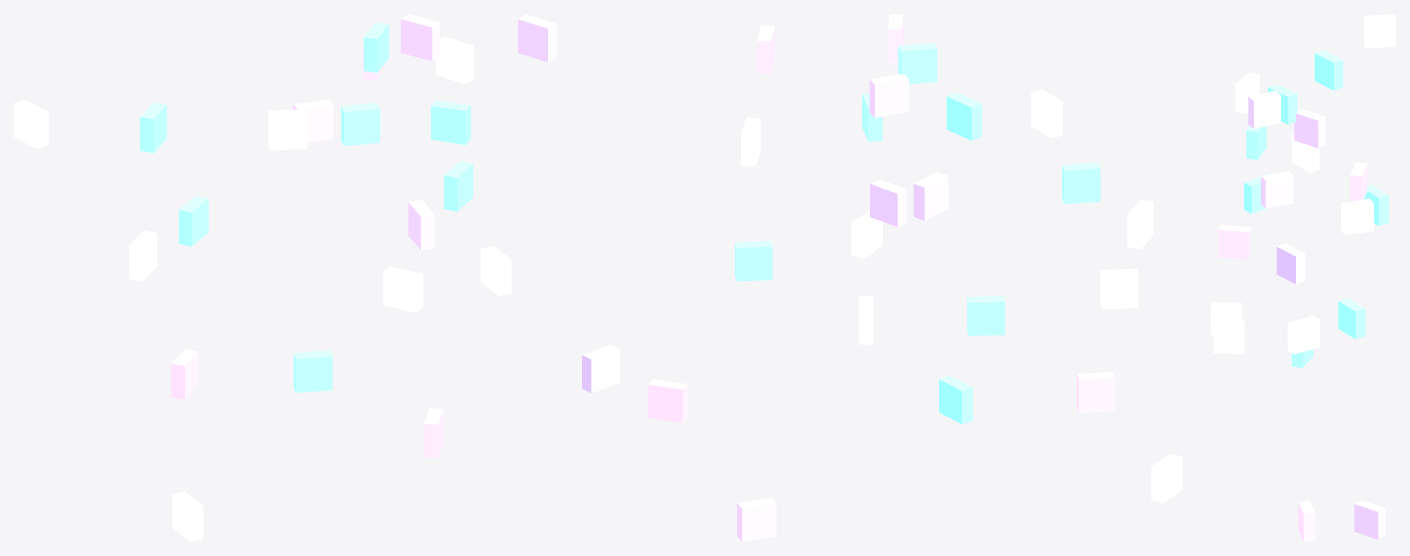
File: pixel.glb
3 renders of one model, left to right at view 1: azimuth 30°, elevation 25°; view 2: azimuth 150°, elevation 25°; view 3: azimuth 270°, elevation 25°, orthographic. The views are drawn at different scales.
Visible parts, largest first — view 1: Pixel Pop dimensional effect.001; view 2: Pixel Pop dimensional effect.001; view 3: Pixel Pop dimensional effect.001.
Boxes of the visible parts, bbox=[...] form: Pixel Pop dimensional effect.001: bbox=[14, 14, 619, 541]; Pixel Pop dimensional effect.001: bbox=[648, 14, 1182, 541]; Pixel Pop dimensional effect.001: bbox=[1211, 14, 1395, 541].
Size of the model in its own units: 1.53 by 1.32 by 0.5428.
